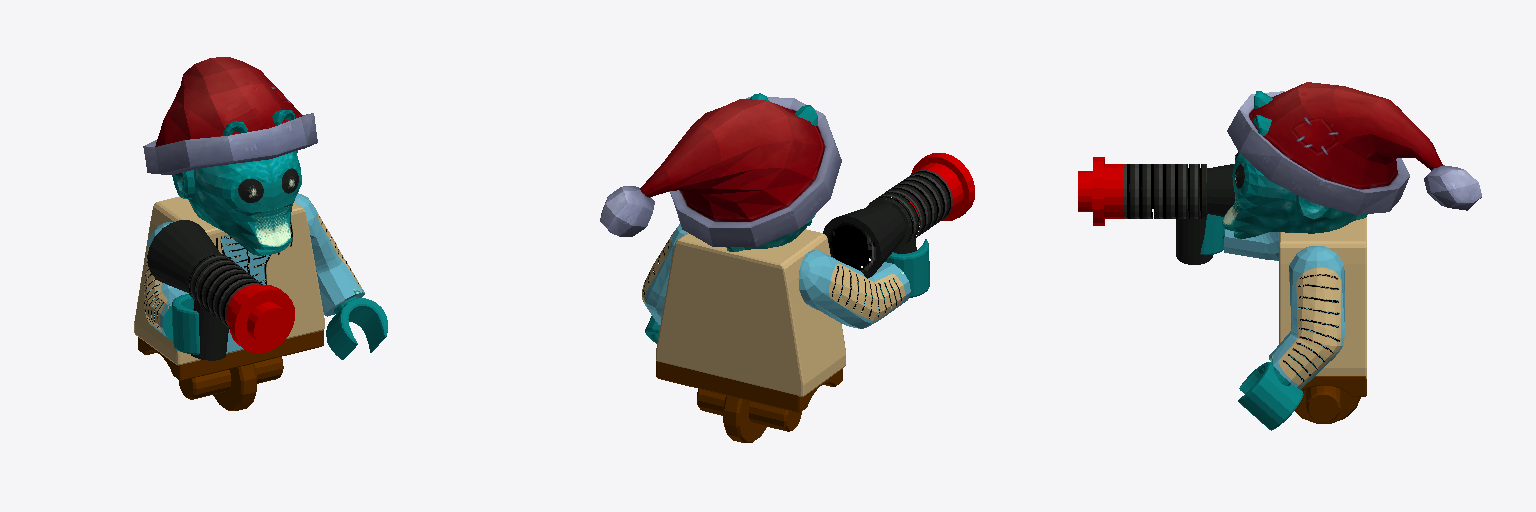
The picture shows the model from 3 angles: view 1: azimuth 30°, elevation 25°; view 2: azimuth 150°, elevation 25°; view 3: azimuth 270°, elevation 25°; orthographic projection.
Visible parts, largest first — view 1: defaultMaterial.005, Mesh_0106.002_Mesh_0106Mesh.002, Mesh_0020_Mesh_0020Mesh, Mesh_0665_Mesh_0665Mesh, Mesh_0125.001_Mesh_0125Mesh.003, Mesh_0142.003_Mesh_0142Mesh.002, Mesh_0140_Mesh_0140Mesh.002, Mesh_0142.004_Mesh_0142Mesh.002, Mesh_0140.001_Mesh_0140Mesh.003; view 2: defaultMaterial.005, Mesh_0665_Mesh_0665Mesh, Mesh_0106.002_Mesh_0106Mesh.002, Mesh_0125.001_Mesh_0125Mesh.003, Mesh_0142.004_Mesh_0142Mesh.002, Mesh_0142.003_Mesh_0142Mesh.002, Mesh_0140.001_Mesh_0140Mesh.003, Mesh_0020_Mesh_0020Mesh; view 3: defaultMaterial.005, Mesh_0106.002_Mesh_0106Mesh.002, Mesh_0142.003_Mesh_0142Mesh.002, Mesh_0665_Mesh_0665Mesh, Mesh_0020_Mesh_0020Mesh, Mesh_0140_Mesh_0140Mesh.002, Mesh_0125.001_Mesh_0125Mesh.003, Mesh_0142.004_Mesh_0142Mesh.002, Mesh_0140.001_Mesh_0140Mesh.003.
Part boxes in pixels (x1,y1,x2,y2): defaultMaterial.005: (143,57,317,174); Mesh_0106.002_Mesh_0106Mesh.002: (147,220,294,360); Mesh_0020_Mesh_0020Mesh: (172,110,301,255); Mesh_0665_Mesh_0665Mesh: (134,196,324,365); Mesh_0125.001_Mesh_0125Mesh.003: (138,330,323,410); Mesh_0142.003_Mesh_0142Mesh.002: (290,193,364,316); Mesh_0140_Mesh_0140Mesh.002: (326,297,387,359); Mesh_0142.004_Mesh_0142Mesh.002: (144,222,187,340); Mesh_0140.001_Mesh_0140Mesh.003: (160,294,199,354); defaultMaterial.005: (600,96,841,246); Mesh_0665_Mesh_0665Mesh: (656,229,845,396); Mesh_0106.002_Mesh_0106Mesh.002: (823,153,974,278); Mesh_0125.001_Mesh_0125Mesh.003: (656,361,842,442); Mesh_0142.004_Mesh_0142Mesh.002: (798,250,910,328); Mesh_0142.003_Mesh_0142Mesh.002: (642,224,687,324); Mesh_0140.001_Mesh_0140Mesh.003: (865,239,929,301); Mesh_0020_Mesh_0020Mesh: (726,93,817,251); defaultMaterial.005: (1227,82,1481,214); Mesh_0106.002_Mesh_0106Mesh.002: (1078,157,1234,264); Mesh_0142.003_Mesh_0142Mesh.002: (1269,246,1344,389); Mesh_0665_Mesh_0665Mesh: (1279,217,1366,378); Mesh_0020_Mesh_0020Mesh: (1222,91,1367,238); Mesh_0140_Mesh_0140Mesh.002: (1238,349,1315,430); Mesh_0125.001_Mesh_0125Mesh.003: (1295,376,1366,423); Mesh_0142.004_Mesh_0142Mesh.002: (1223,229,1278,260); Mesh_0140.001_Mesh_0140Mesh.003: (1200,214,1225,254).
Size of the model in its own units: 0.2379 by 0.3172 by 0.3498.
4 materials, 4 textured.